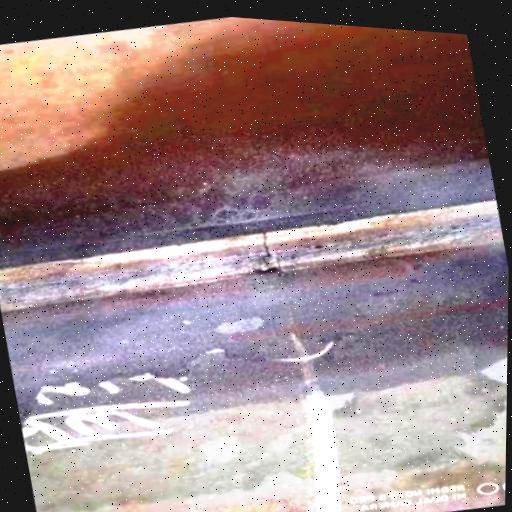crack: (254, 228, 277, 264)
